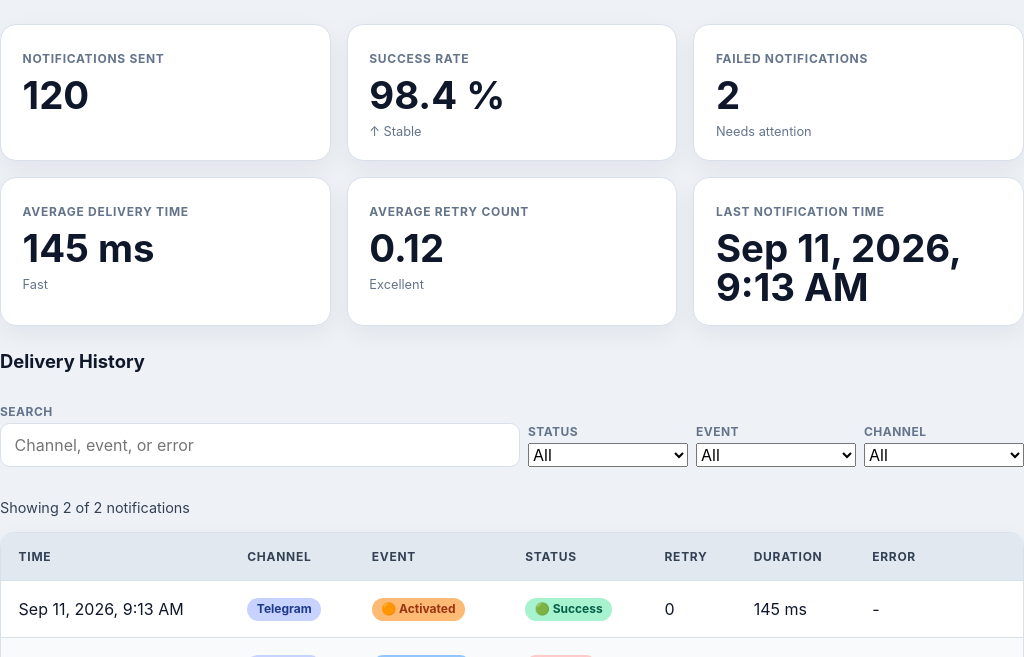
Test case: Notification Center page › shows an empty filtered delivery state and restores after clearing search
The width and height of the screenshot is (1024, 657).
Type "does-not-match" into the search field labelled "Search". click: (260, 445)
box: [0, 423, 520, 468]
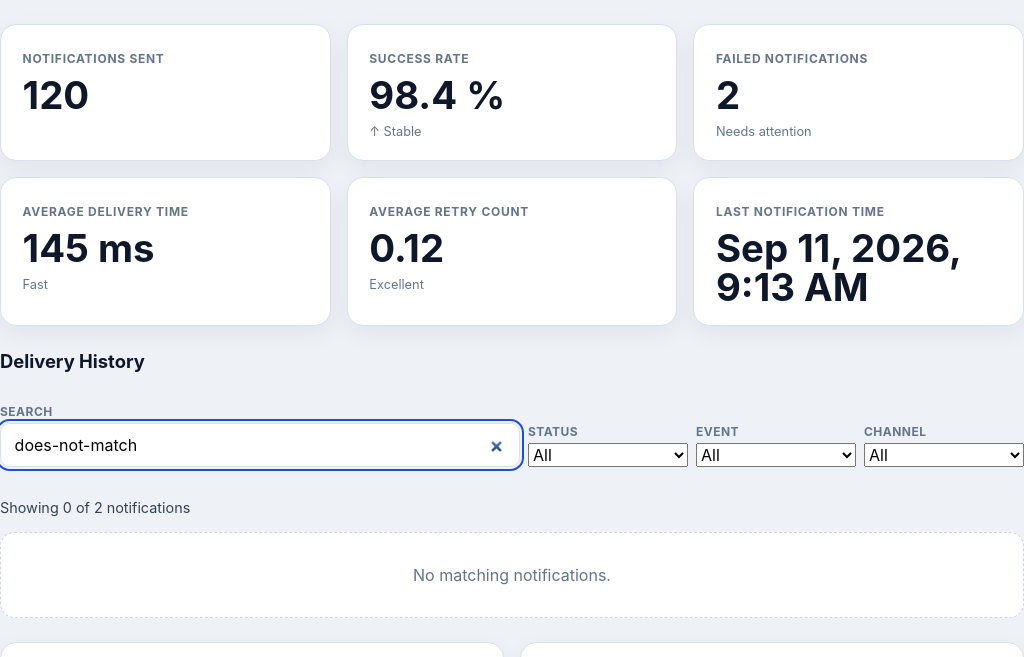
Now the text "Showing 0 of 2 notifications" is shown, box [0, 500, 190, 516]
Now the text "No matching notifications." is shown, box [413, 566, 611, 586]
Clear the search field labelled "Search". click: (260, 445)
box: [0, 423, 520, 468]
(page scrolled)
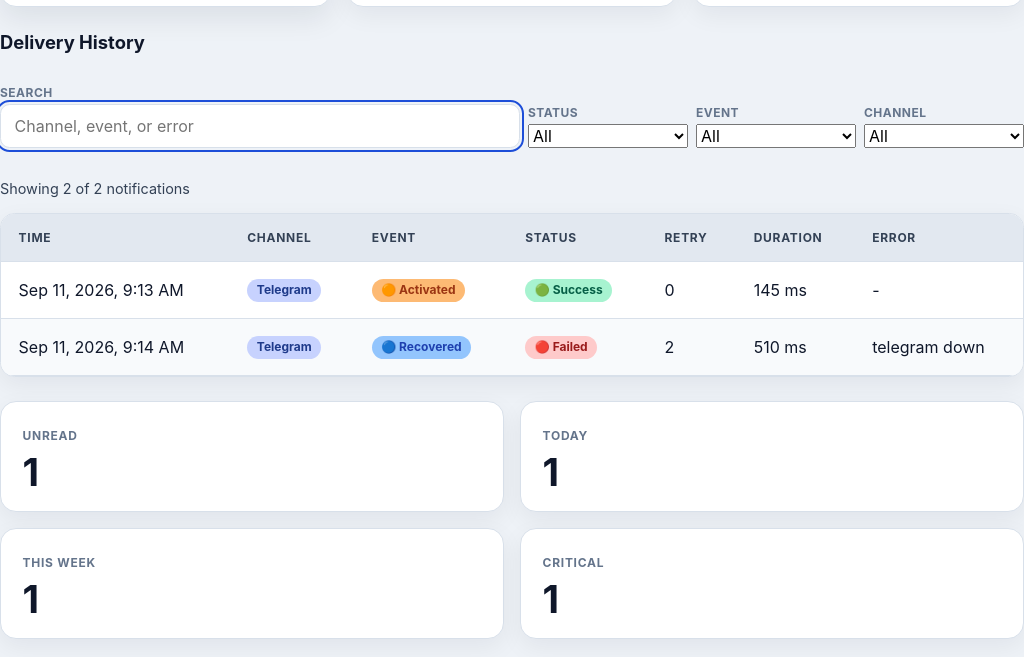
Now the text "Showing 2 of 2 notifications" is shown, box [0, 180, 190, 198]
Now the element named "Delivery history table" is shown, box [0, 214, 1023, 377]
